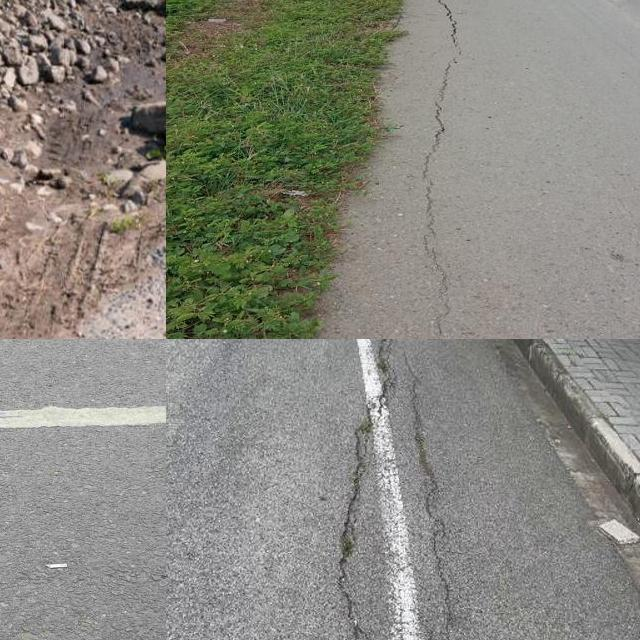Memanjang: (313, 339, 411, 640), (401, 0, 471, 339), (404, 381, 473, 640)
Pinggir: (250, 0, 427, 339), (36, 0, 166, 327)
